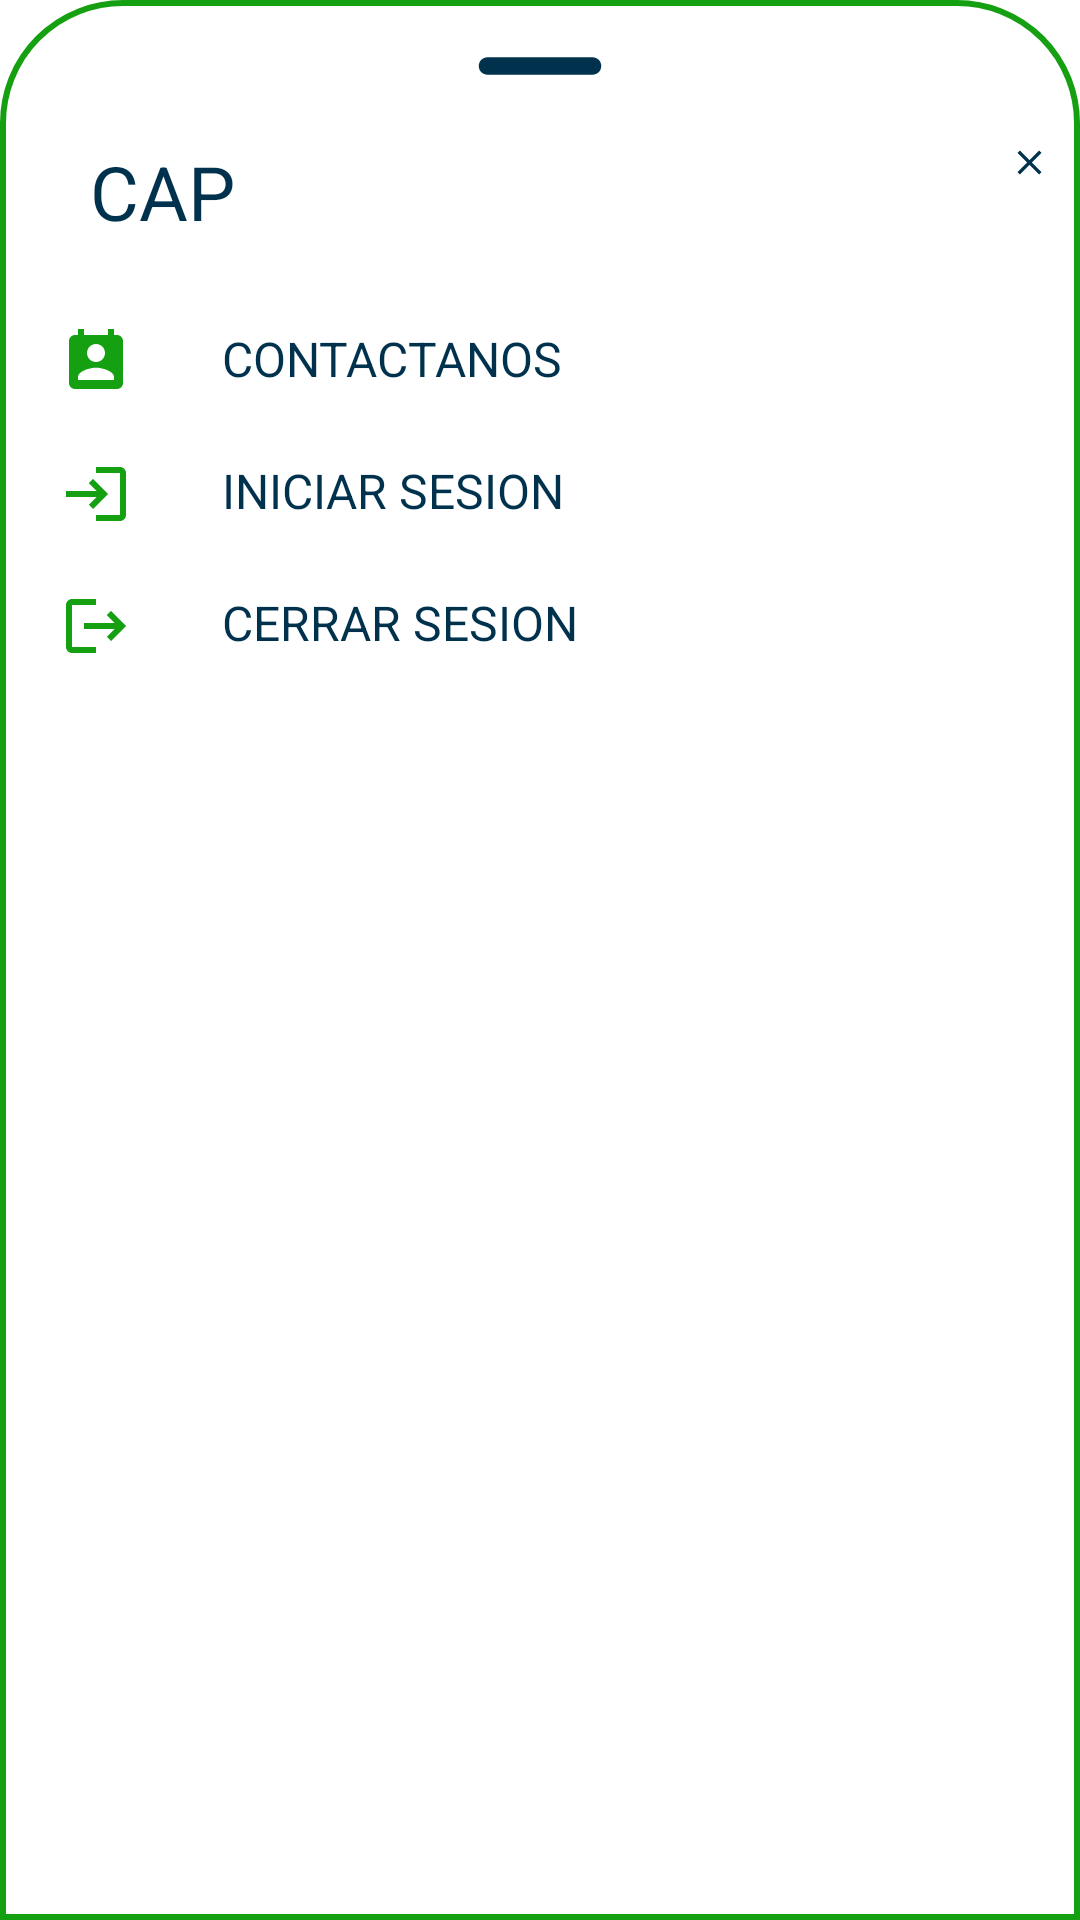

Icons on this 1080w x 1920h Android screen, each with its box as detection(x1, y1, x2, y2):
clear: detection(1017, 150, 1042, 175)
login: detection(66, 467, 126, 521)
perm contact calendar: detection(69, 329, 123, 389)
